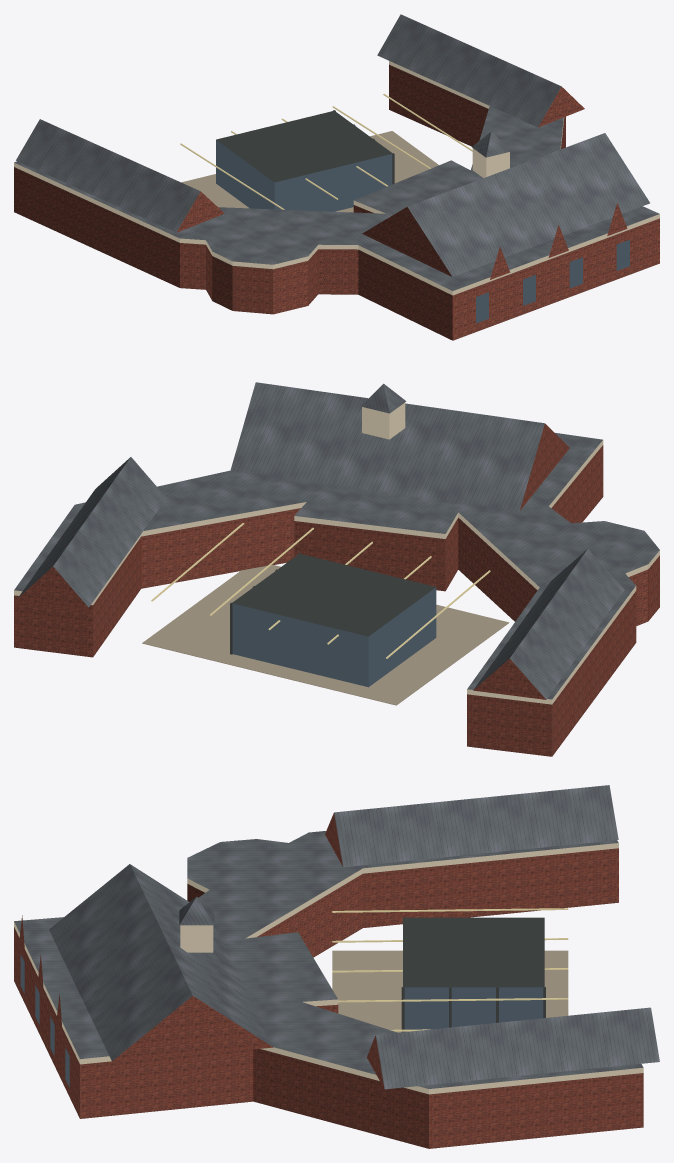
The model's file is tavern_on_the_green.glb.
3 renders of one model, top to bottom at view 1: azimuth 30°, elevation 25°; view 2: azimuth 150°, elevation 25°; view 3: azimuth 270°, elevation 25°, orthographic. The views are drawn at different scales.
Visible parts, largest first — view 1: tavern_on_the_green; view 2: tavern_on_the_green; view 3: tavern_on_the_green.
Boxes of the visible parts, <box> form: tavern_on_the_green: <box>14,14,659,340</box>; tavern_on_the_green: <box>14,382,659,756</box>; tavern_on_the_green: <box>14,785,659,1148</box>.
Size of the model in its own units: 57.07 by 14.2 by 54.79.
Materials: 3 (3 with a texture image).
